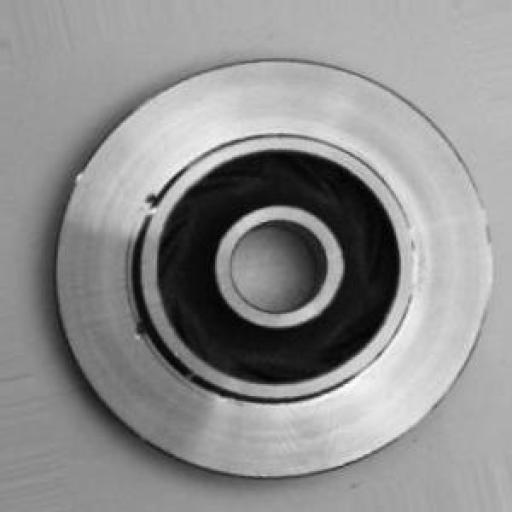defect: (122, 178, 171, 382)
